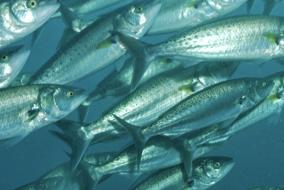Scombridae -Tunas-: (114, 16, 284, 102)
